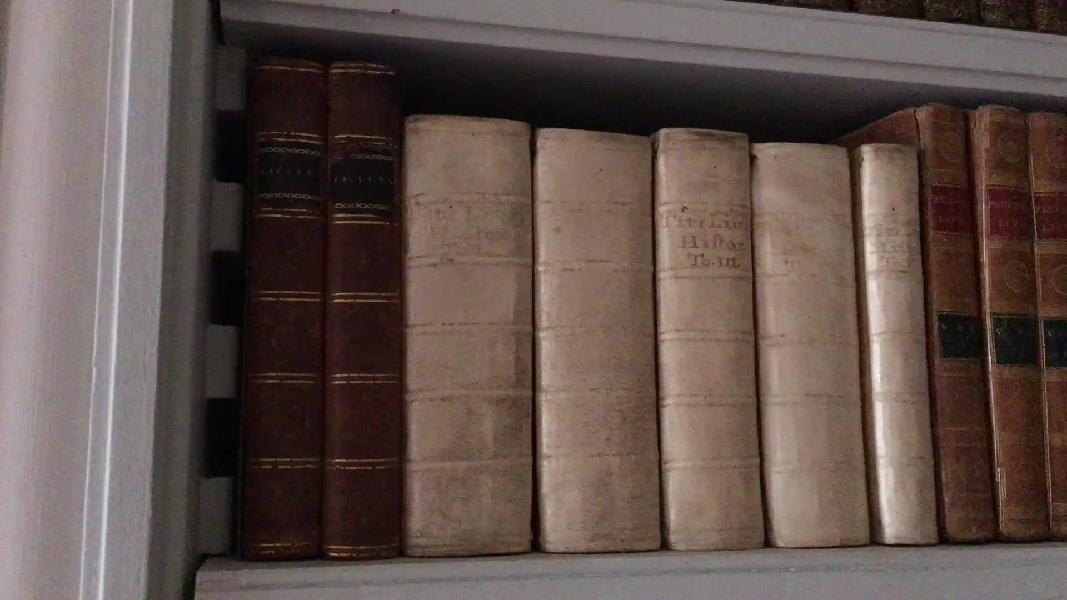Kk4-1_2: (236, 42, 412, 570)
Kk4-3_7: (386, 89, 946, 555)
Kk4-8_13: (913, 100, 1067, 553)
